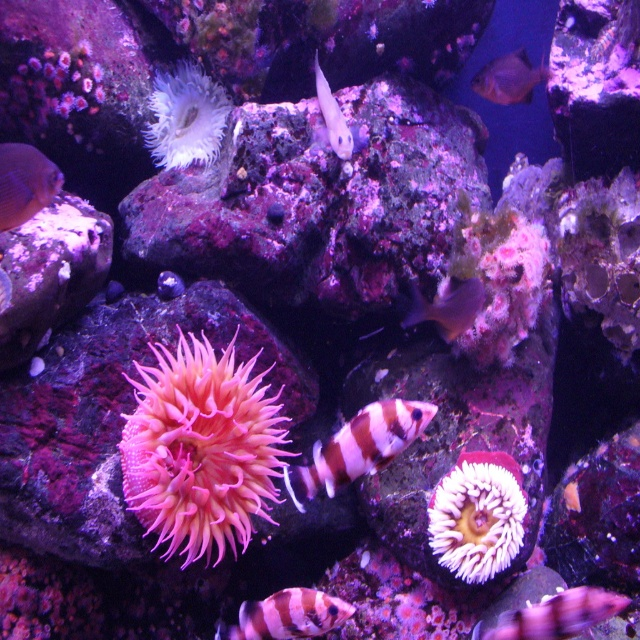Fish: (113, 322, 304, 572), (281, 400, 438, 521), (426, 459, 528, 588), (139, 56, 235, 172), (215, 585, 354, 640), (495, 585, 634, 640), (0, 143, 67, 235), (407, 283, 488, 345), (314, 48, 353, 164)
